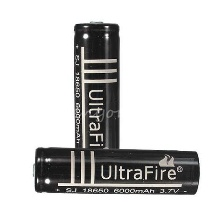battery: (29, 143, 204, 200), (70, 15, 120, 186)
